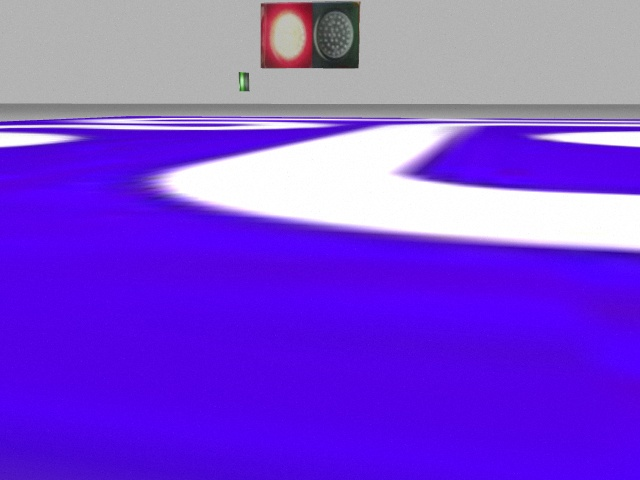red: (260, 3, 313, 68)
